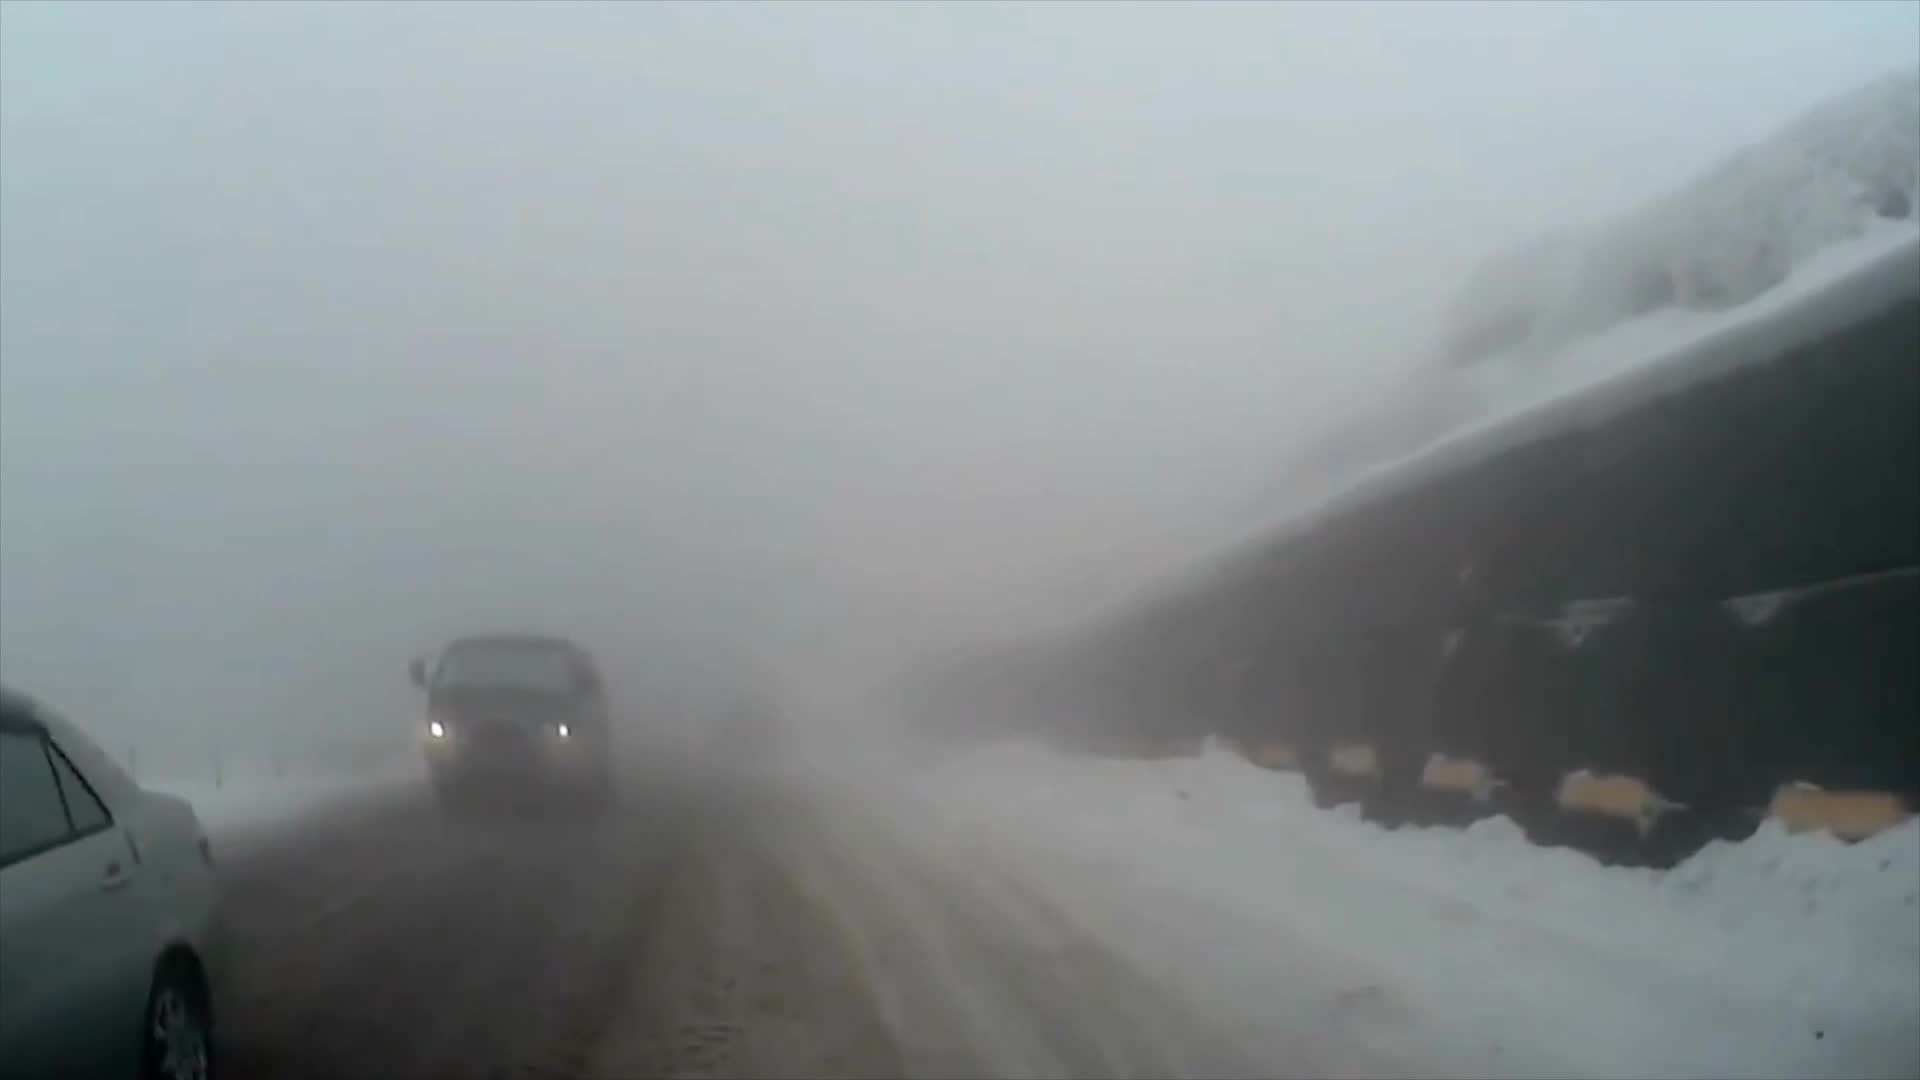vehicle: (0, 687, 222, 1080), (401, 634, 615, 823)
